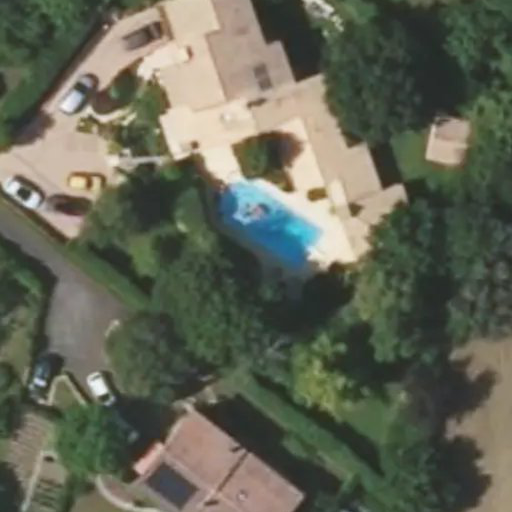pool: (218, 178, 325, 275)
